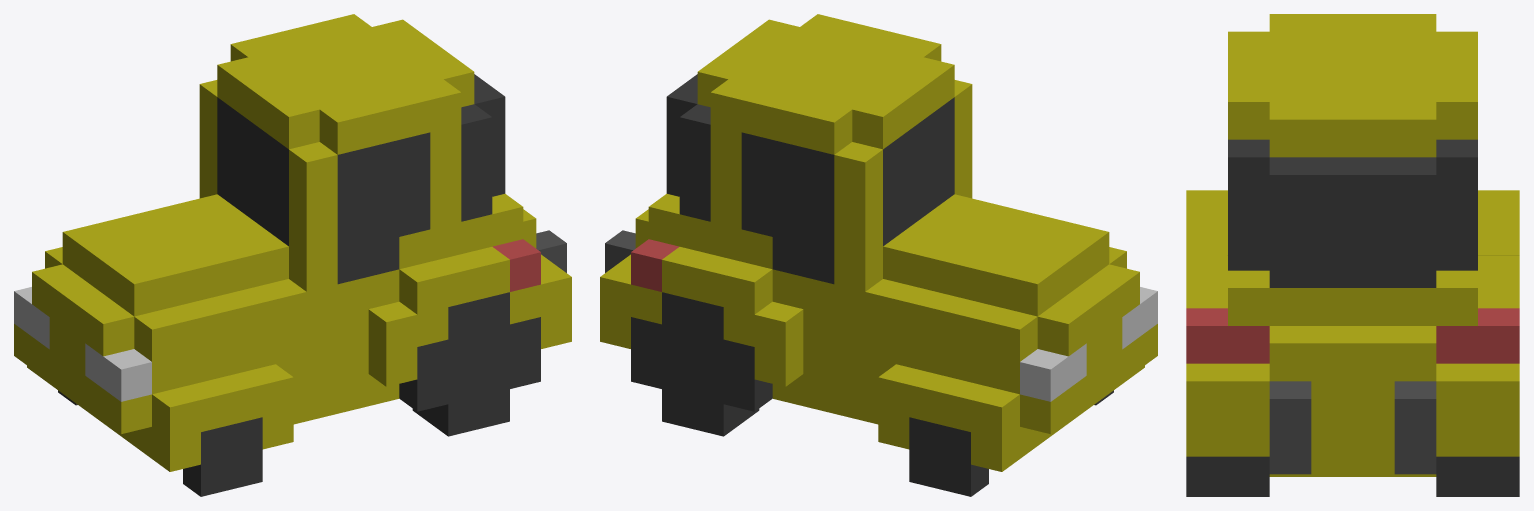
Rendered from tractor-yellow.gltf.
The picture shows the model from 3 angles, left to right: view 1: azimuth 30°, elevation 25°; view 2: azimuth 150°, elevation 25°; view 3: azimuth 270°, elevation 25°; orthographic projection. The views are drawn at different scales.
Visible parts, largest first — view 1: model, wheels; view 2: model, wheels; view 3: model, wheels.
Part boxes in pixels (x1,y1,x2,y2): model: (14,14,571,471); wheels: (58,292,540,496); model: (600,14,1157,471); wheels: (631,292,1113,496); model: (1186,14,1519,476); wheels: (1186,456,1519,496).
Bounding box in the file's own units: 1.5 × 1 × 0.8.
2 materials, 2 textured.
